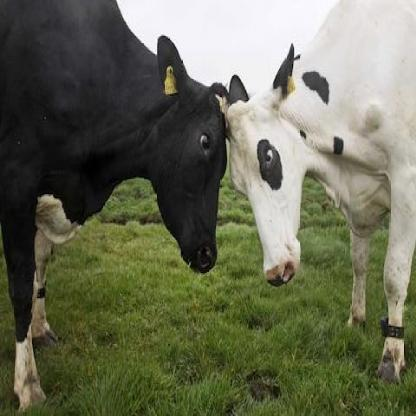cow: (0, 1, 227, 411), (229, 1, 416, 379)
